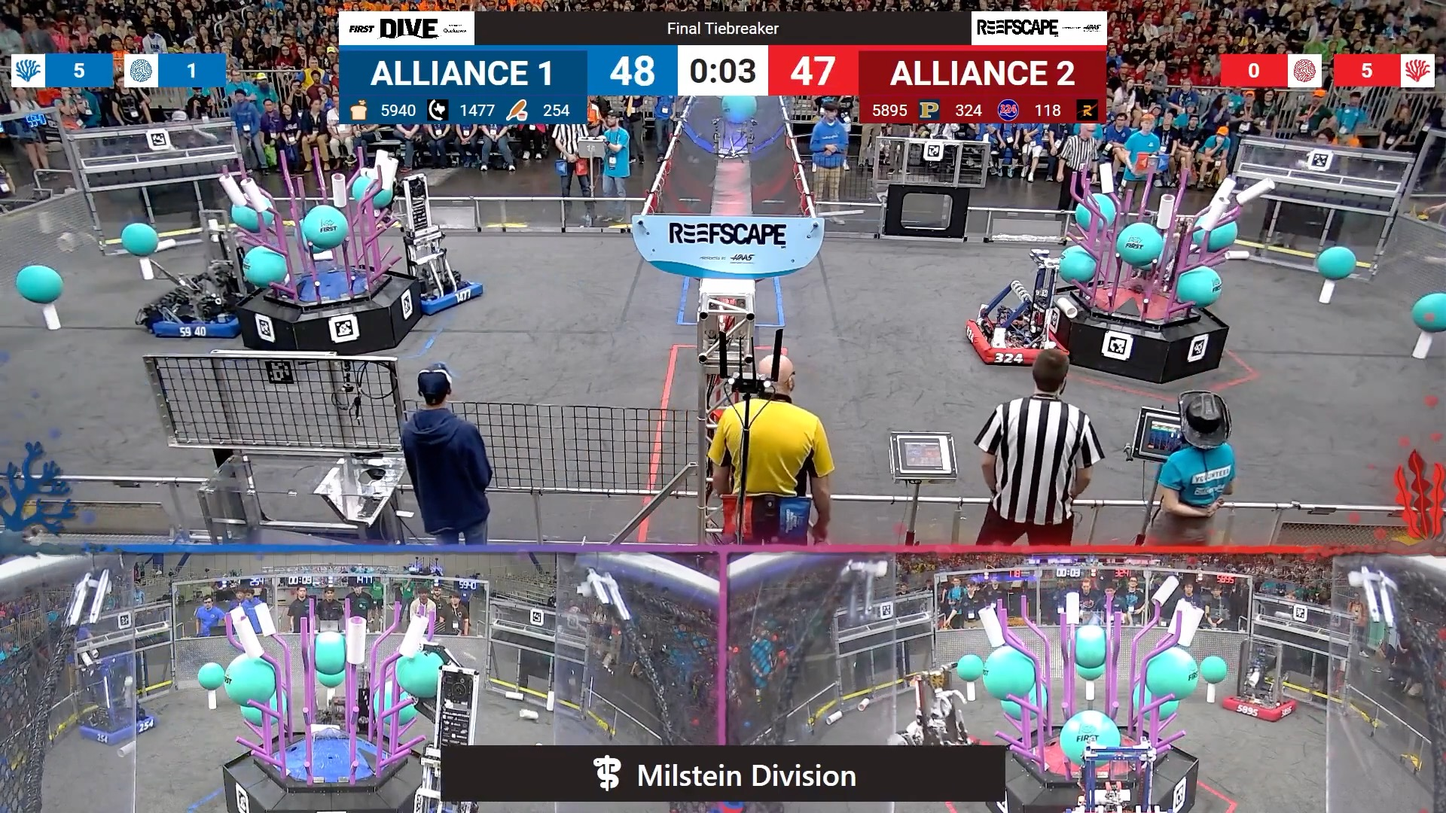bumpers: (963, 313, 1075, 373), (141, 294, 247, 344), (396, 270, 491, 319), (73, 711, 164, 750), (1215, 692, 1300, 725)
